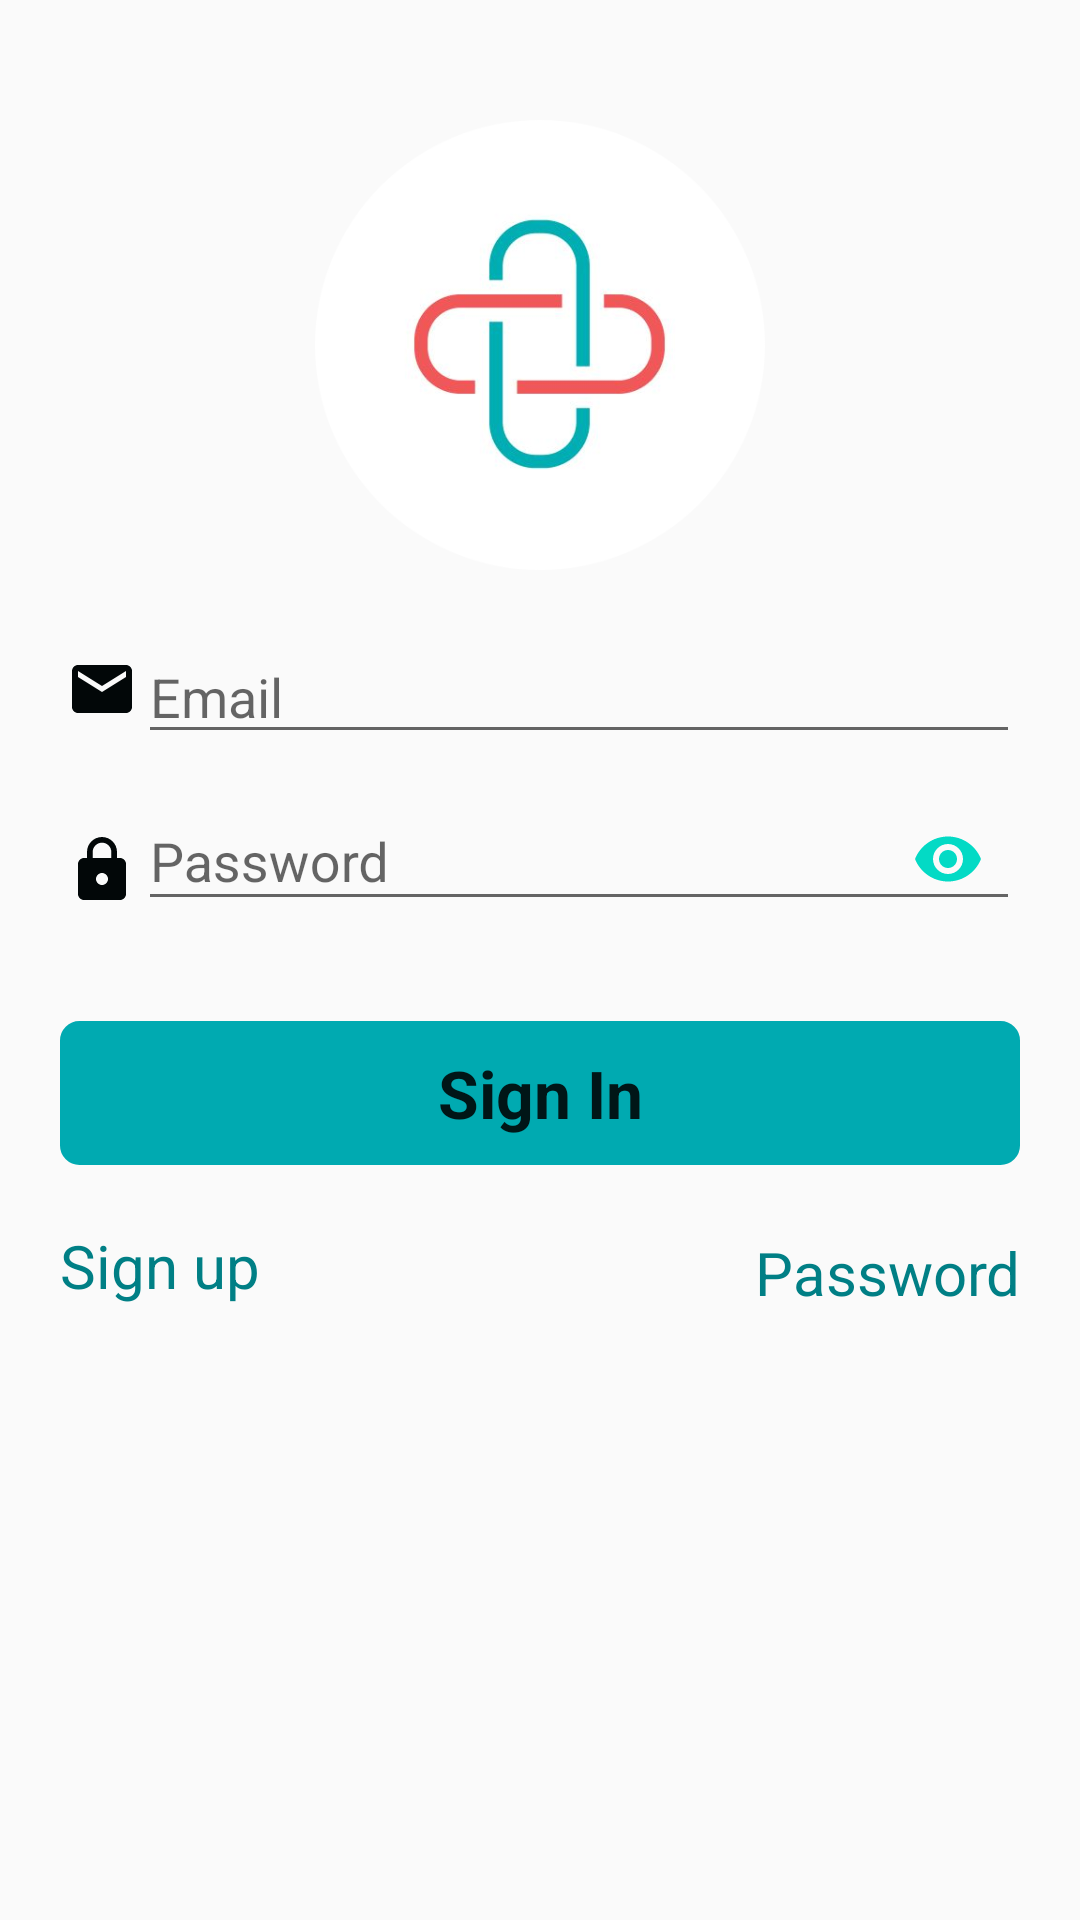

Icons on this 1080 × 1920 Android screen, each with its box as box(x1, y1, x2, y2):
lock: box(78, 837, 126, 900)
